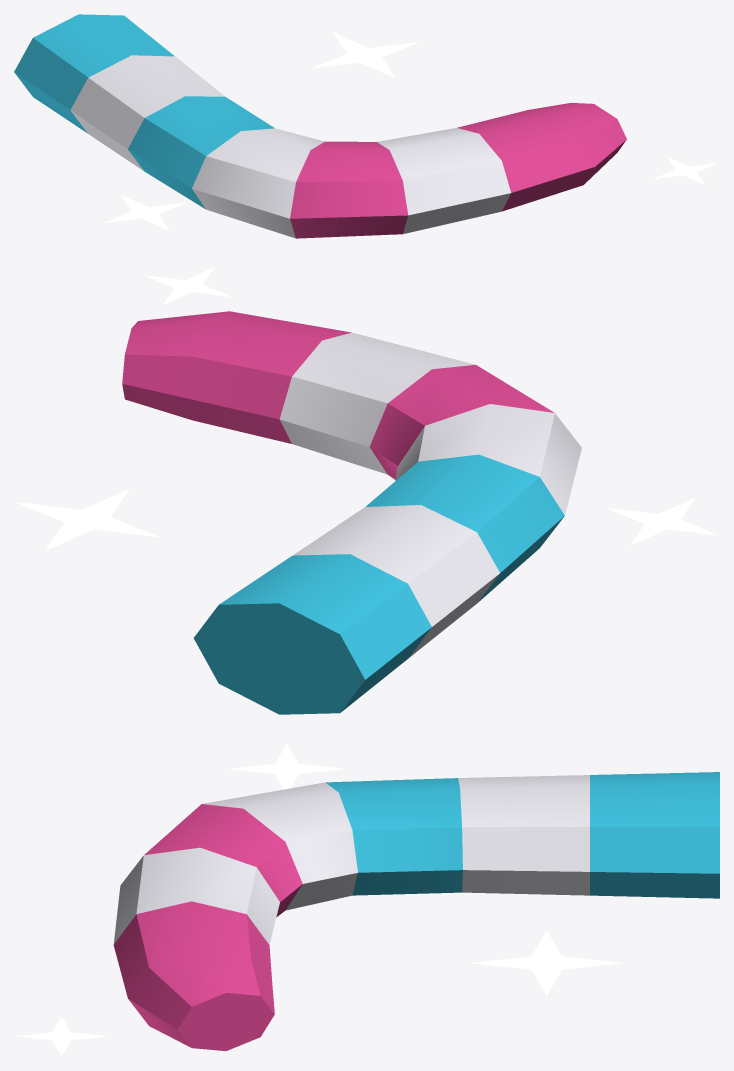
Rendered from space_sock.glb.
The picture shows the model from 3 angles, top to bottom: view 1: azimuth 30°, elevation 25°; view 2: azimuth 150°, elevation 25°; view 3: azimuth 270°, elevation 25°; orthographic projection. The views are drawn at different scales.
Visible parts, largest first — view 1: body; view 2: body; view 3: body.
Boxes of the visible parts, bbox=[...] form: body: bbox=[14, 14, 719, 238]; body: bbox=[15, 267, 718, 714]; body: bbox=[15, 744, 719, 1056].
Bounding box in the file's own units: 171 × 26.04 × 163.
